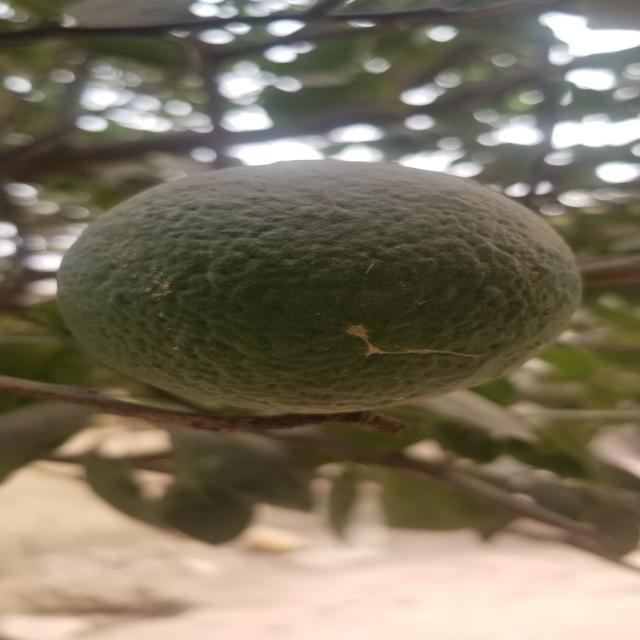Unripe: (62, 159, 601, 416)
